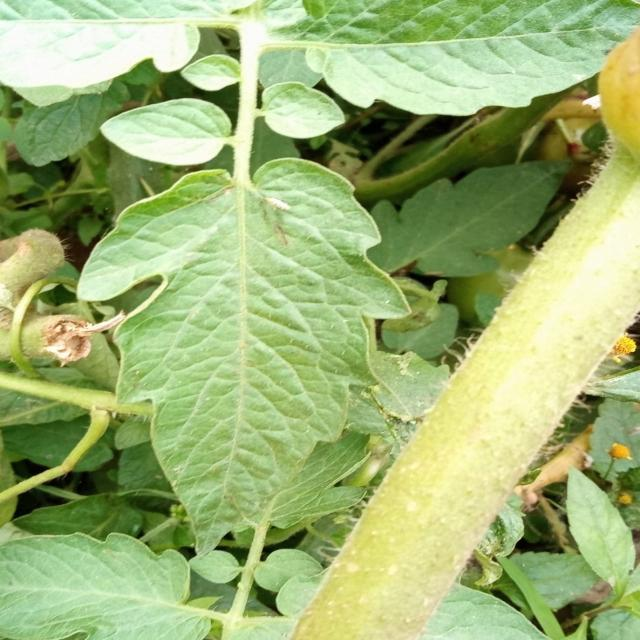Healthy: (42, 109, 473, 555), (265, 0, 639, 115)
